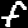f: (0, 0, 28, 28)
